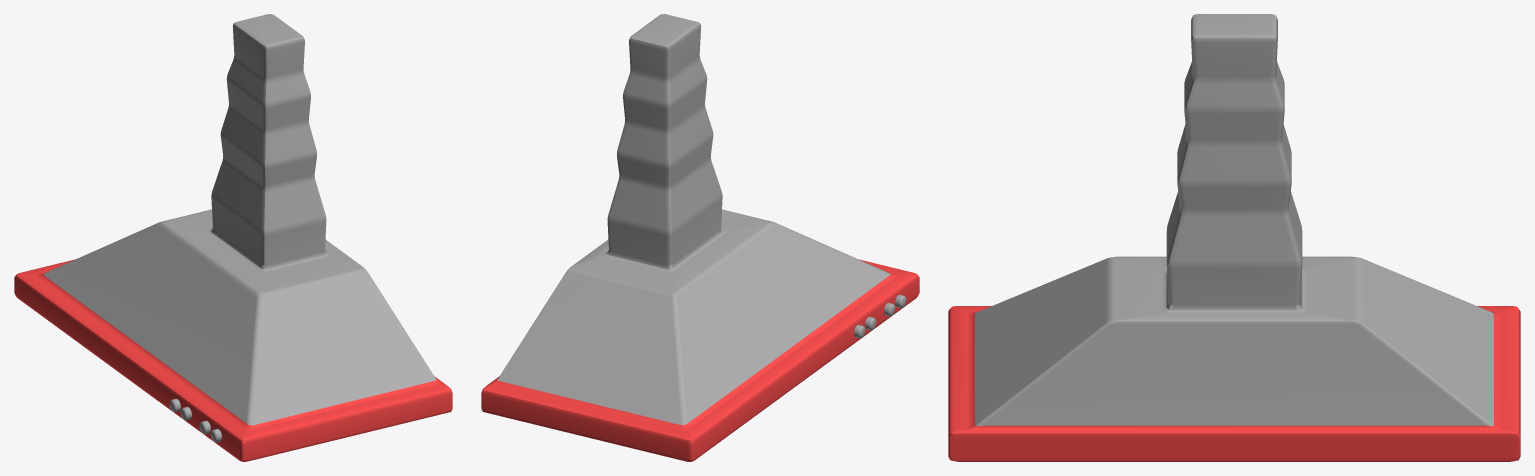
Rendered from Extractor.fbx.
3 renders of one model, left to right at view 1: azimuth 30°, elevation 25°; view 2: azimuth 150°, elevation 25°; view 3: azimuth 270°, elevation 25°, orthographic. The views are drawn at different scales.
Visible parts, largest first — view 1: pCube1; view 2: pCube1; view 3: pCube1.
Part boxes in pixels (x1=…): pCube1: x1=14, y1=14, x2=452, y2=461; pCube1: x1=481, y1=14, x2=919, y2=461; pCube1: x1=948, y1=14, x2=1520, y2=461.
Size of the model in its own units: 110 by 153 by 200.
